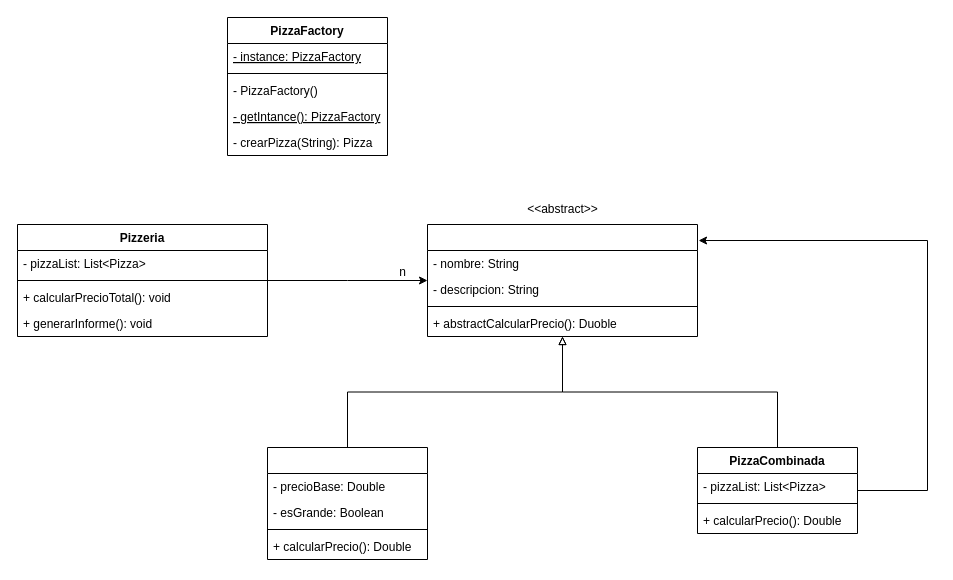
Image size: 953x580. Some labels were removed from this diagram. Each missing label, with the box of its shape:
Pizza: (426, 224, 698, 336)
PizzaSimple: (266, 446, 428, 560)
